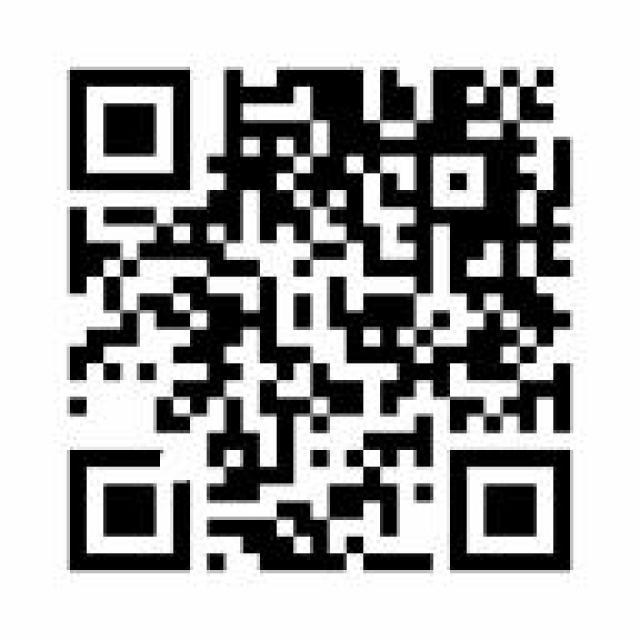qr_code: (68, 68, 571, 570)
